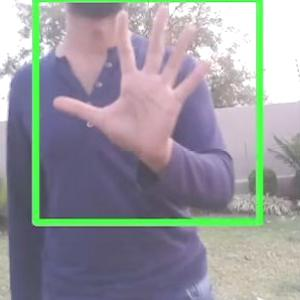follow_hand: (49, 0, 220, 161)
